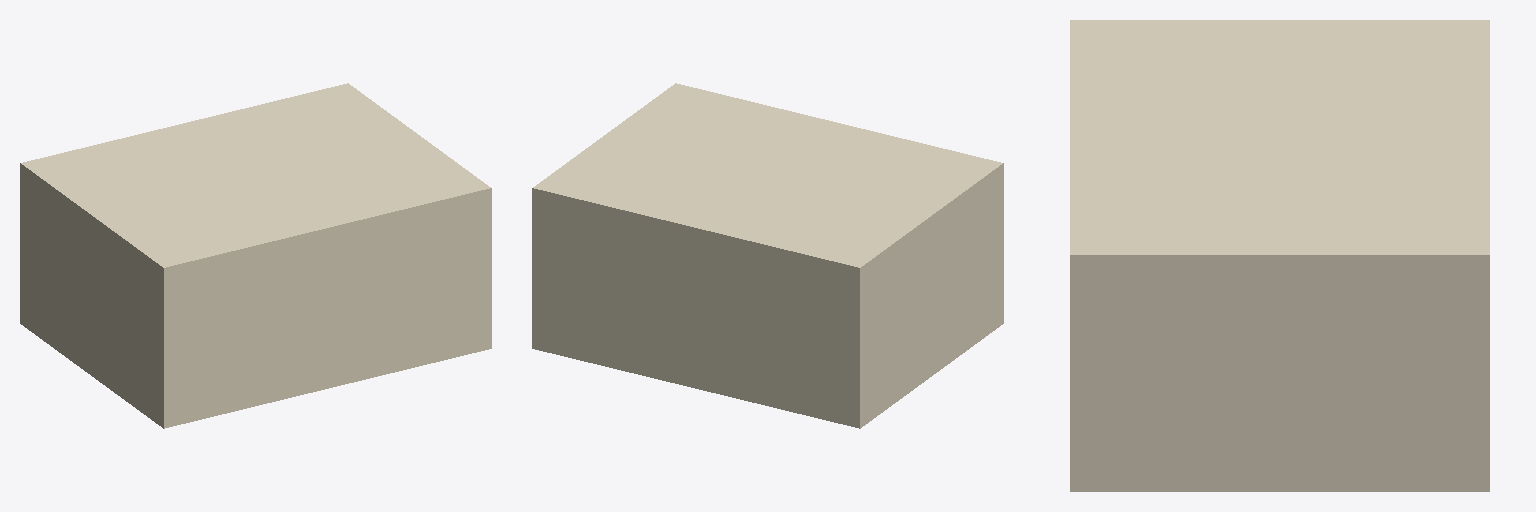
The robot description file, URDF, robot "nova_environment_object_0306":
<?xml version="1.0" encoding="utf-8"?>
<!-- Nova movable environment body for the bundled PyBullet launcher. SI metres/kg/radians. Loaded at its body origin; hinge/slider bodies use a fixed world_anchor base with one passive joint. Inertia is about COM. -->
<robot name="nova_environment_object_0306">
  <link name="body">
    <inertial>
      <origin xyz="0 0 0.0225" rpy="0 0 0" />
      <mass value="0.084" />
      <inertia ixx="7.42847778e-05" iyy="0.000143647" izz="0.000189581778" ixy="0" ixz="0" iyz="0" />
    </inertial>
    <visual>
      <origin xyz="0 0 0" rpy="0 0 0" />
      <geometry>
        <mesh filename="object_0306.obj" />
      </geometry>
      <material name="surface">
        <color rgba="0.91 0.88 0.8 1" />
      </material>
    </visual>
    <collision>
      <origin xyz="0 0 0" rpy="0 0 0" />
      <geometry>
        <mesh filename="object_0306_collision_00.obj" />
      </geometry>
    </collision>
  </link>
</robot>

--- Facts derived from the render (not from the file) ---
Views: 3 orthographic renders of the robot side by side, from view 1: azimuth 30°, elevation 25°; view 2: azimuth 150°, elevation 25°; view 3: azimuth 270°, elevation 25°.
Robot: nova_environment_object_0306 — 1 links, 0 joints (none); root link body; default pose: all joints at 0.
Visible links, largest first — view 1: body; view 2: body; view 3: body.
Link boxes in pixels (x1,y1,x2,y2): body: (20, 83, 491, 428); body: (532, 83, 1003, 428); body: (1070, 20, 1489, 491).
Bounding box of the posed robot: 0.096 × 0.0727 × 0.045 m (x, y, z).
Meshes: 1 distinct files referenced, 1 mesh visuals loaded (1 OBJ).
